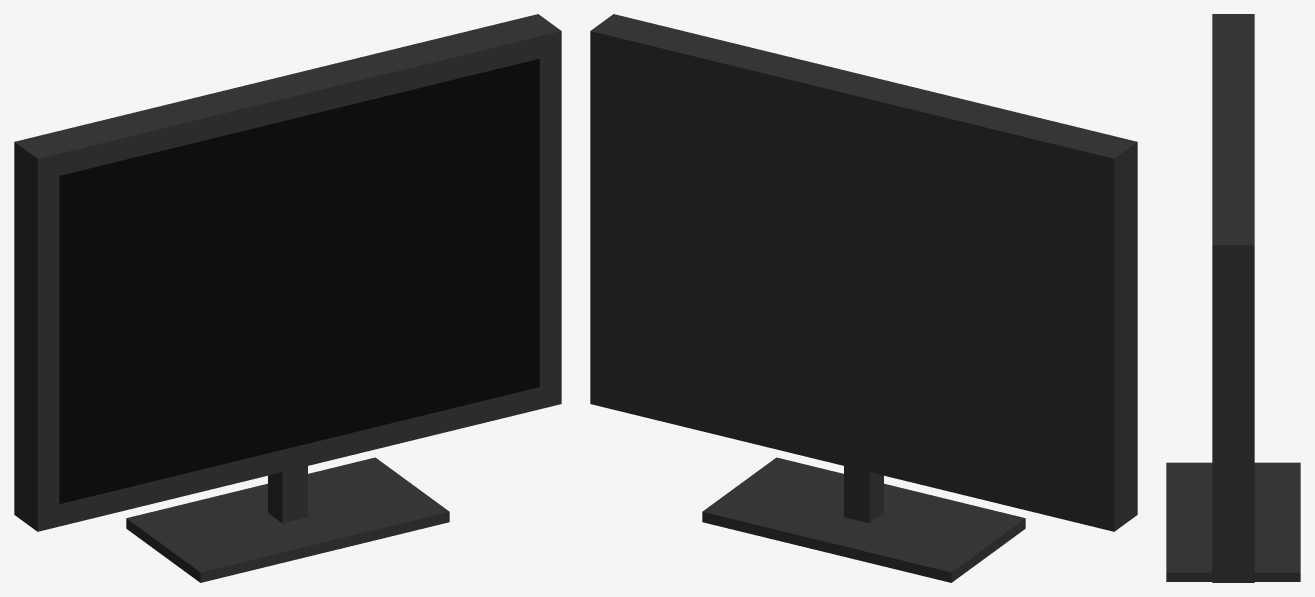
The picture shows the model from 3 angles, left to right: view 1: azimuth 30°, elevation 25°; view 2: azimuth 150°, elevation 25°; view 3: azimuth 270°, elevation 25°; orthographic projection. The views are drawn at different scales.
Parts seen in each view (by area): view 1: TV:polySurface356; view 2: TV:polySurface356; view 3: TV:polySurface356.
Part boxes in pixels (x1=…): TV:polySurface356: x1=14, y1=14, x2=561, y2=582; TV:polySurface356: x1=590, y1=14, x2=1137, y2=582; TV:polySurface356: x1=1166, y1=14, x2=1300, y2=582.
Bounding box in the file's own units: 115 × 92.33 × 28.27.
